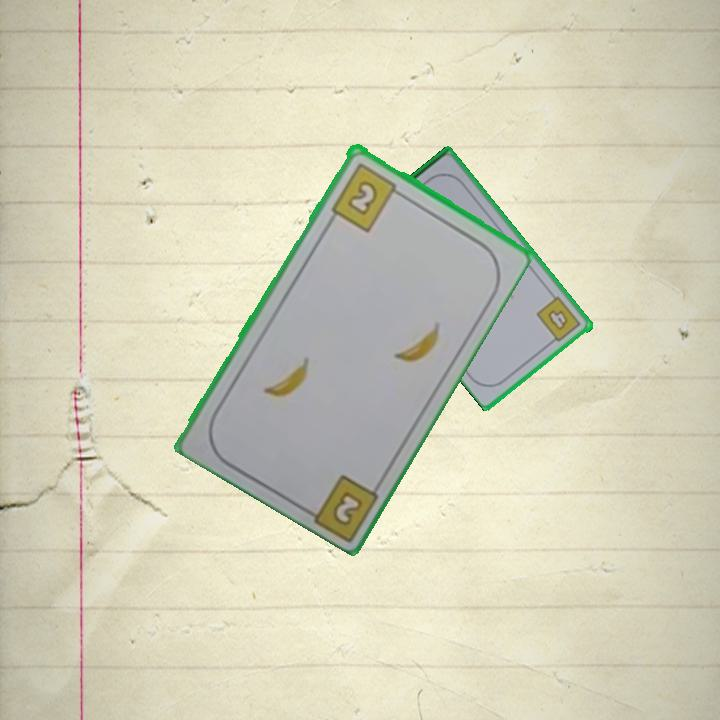2b: (327, 158, 406, 234), (328, 487, 366, 528)
4b: (533, 293, 584, 347)
